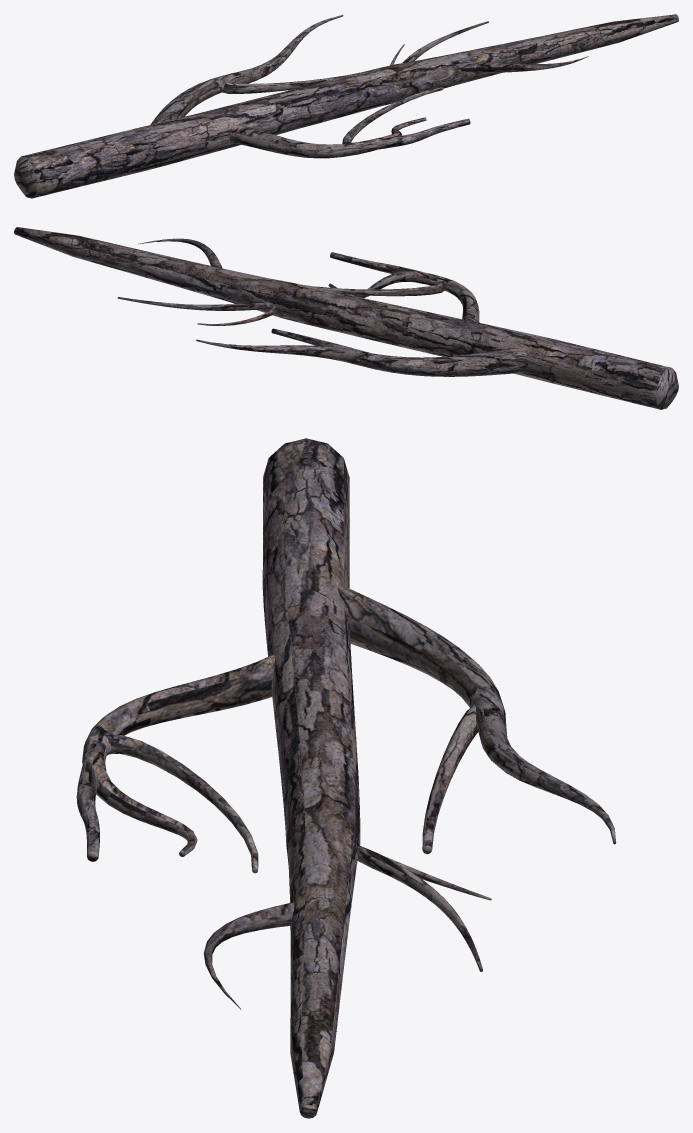
The model's file is Amazonie_Bois.fbx.
3 views of the same model, one above another, from view 1: azimuth 30°, elevation 25°; view 2: azimuth 150°, elevation 25°; view 3: azimuth 270°, elevation 25° (orthographic). The views are drawn at different scales.
Parts seen in each view (by area): view 1: Bois_ModExport; view 2: Bois_ModExport; view 3: Bois_ModExport.
Part boxes in pixels (x1,y1,x2,y2): Bois_ModExport: (14, 14, 678, 198); Bois_ModExport: (14, 227, 678, 409); Bois_ModExport: (76, 438, 616, 1118).
Size of the model in its own units: 346 by 19.8 by 123.
